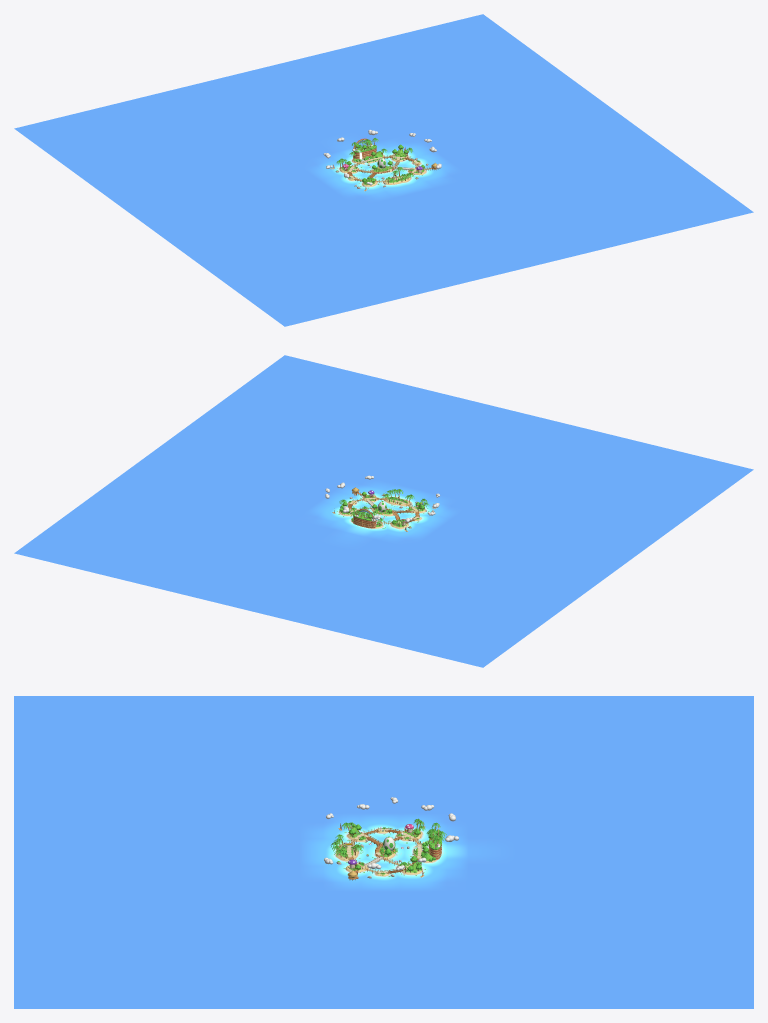
The model's file is board-merge.glb.
The picture shows the model from 3 angles, top to bottom: view 1: azimuth 30°, elevation 25°; view 2: azimuth 150°, elevation 25°; view 3: azimuth 270°, elevation 25°; orthographic projection. The views are drawn at different scales.
Parts seen in each view (by area): view 1: Water, Terrain; view 2: Water, Terrain; view 3: Water, Terrain.
Part boxes in pixels (x1,y1,x2,y2): Water: (14,14,753,326); Terrain: (339,149,426,186); Water: (14,355,753,667); Terrain: (339,494,425,528); Water: (14,696,753,1008); Terrain: (335,827,436,876).
Size of the model in its own units: 280 by 11.67 by 280.
Materials: 14 (6 with a texture image).
